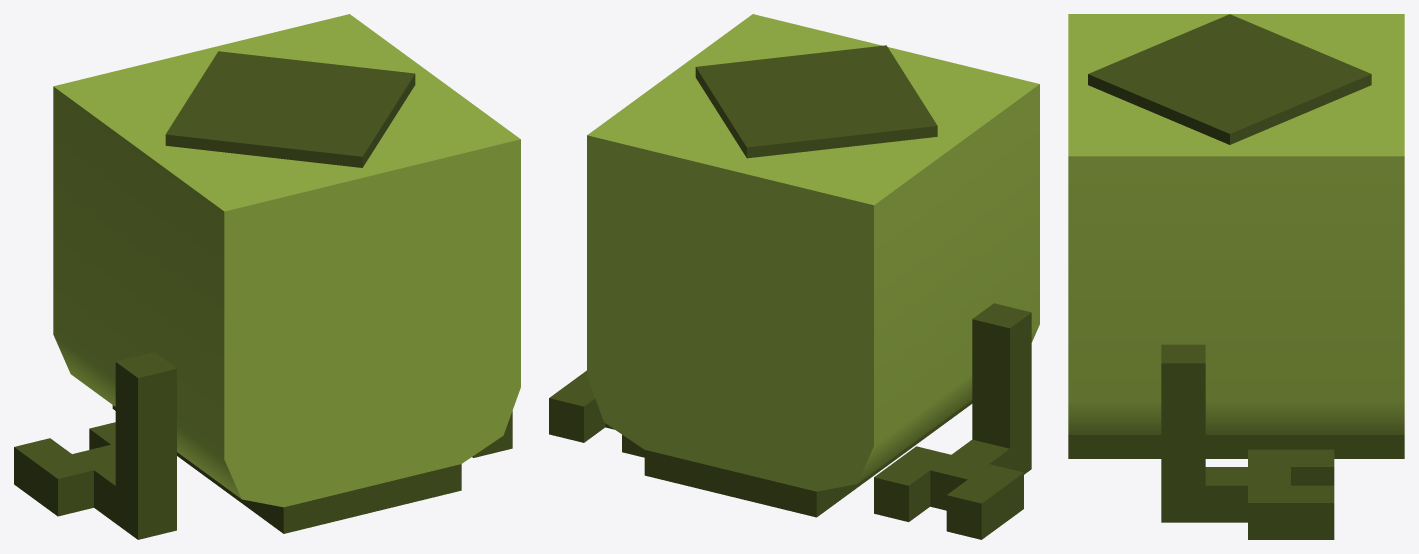
Rendered from snakeSection.fbx.
The picture shows the model from 3 angles, left to right: view 1: azimuth 30°, elevation 25°; view 2: azimuth 150°, elevation 25°; view 3: azimuth 270°, elevation 25°; orthographic projection. The views are drawn at different scales.
Visible parts, largest first — view 1: link_GEO, diamond_GEO, arms_GEO, belly_GEO; view 2: link_GEO, arms_GEO, diamond_GEO, belly_GEO; view 3: link_GEO, diamond_GEO, arms_GEO, belly_GEO.
Part boxes in pixels (box(x1,y1,x2,y2)): link_GEO: box(53, 14, 520, 507); diamond_GEO: box(165, 51, 415, 167); arms_GEO: box(14, 352, 512, 539); belly_GEO: box(112, 405, 461, 533); link_GEO: box(587, 14, 1039, 491); arms_GEO: box(549, 303, 1031, 539); diamond_GEO: box(695, 45, 937, 158); belly_GEO: box(644, 400, 972, 517); link_GEO: box(1068, 14, 1404, 434); diamond_GEO: box(1088, 14, 1371, 144); arms_GEO: box(1161, 344, 1334, 539); belly_GEO: box(1068, 435, 1404, 458).
Size of the model in its own units: 1.43 by 1.11 by 0.9471.
